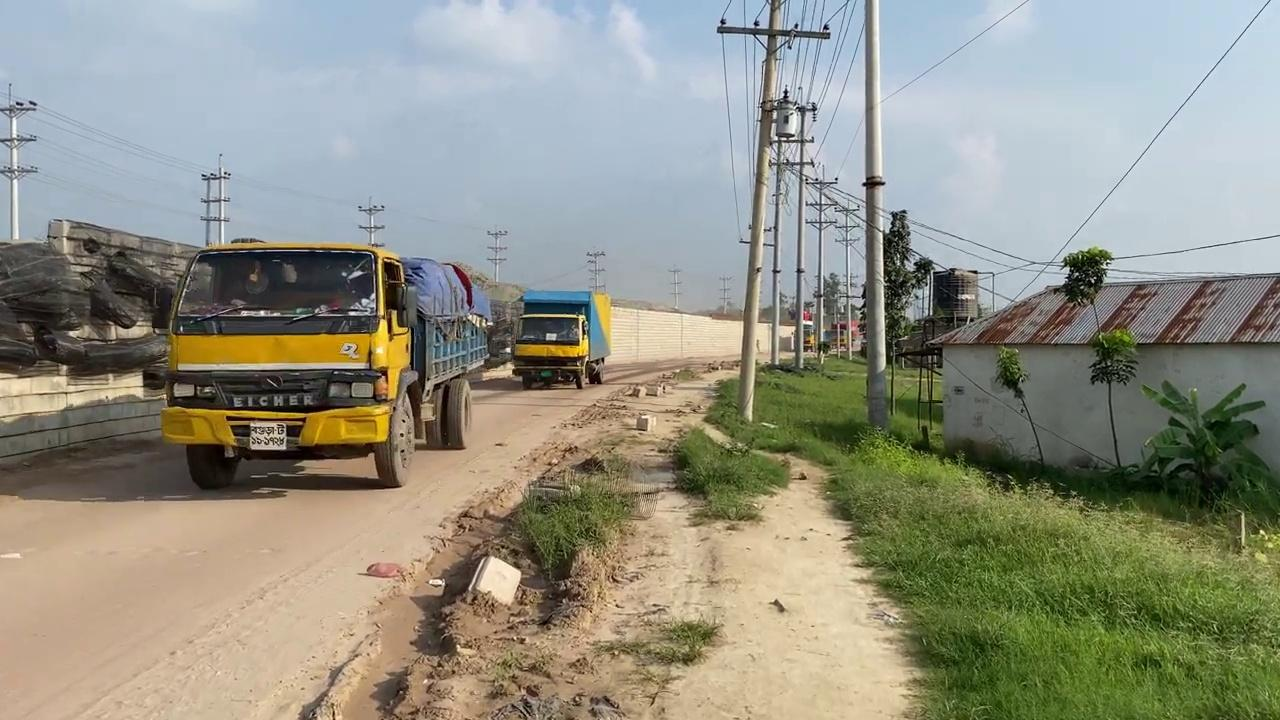Obstacle: (465, 554, 521, 606), (635, 412, 656, 431)
Pole: (717, 0, 830, 422), (736, 0, 784, 422), (862, 0, 889, 431)
Rickshaw: (313, 358, 924, 719)
Traffic-sign: (1135, 378, 1270, 509), (1087, 326, 1138, 469)
Tree: (156, 236, 493, 489), (509, 288, 611, 389), (483, 283, 523, 368)
